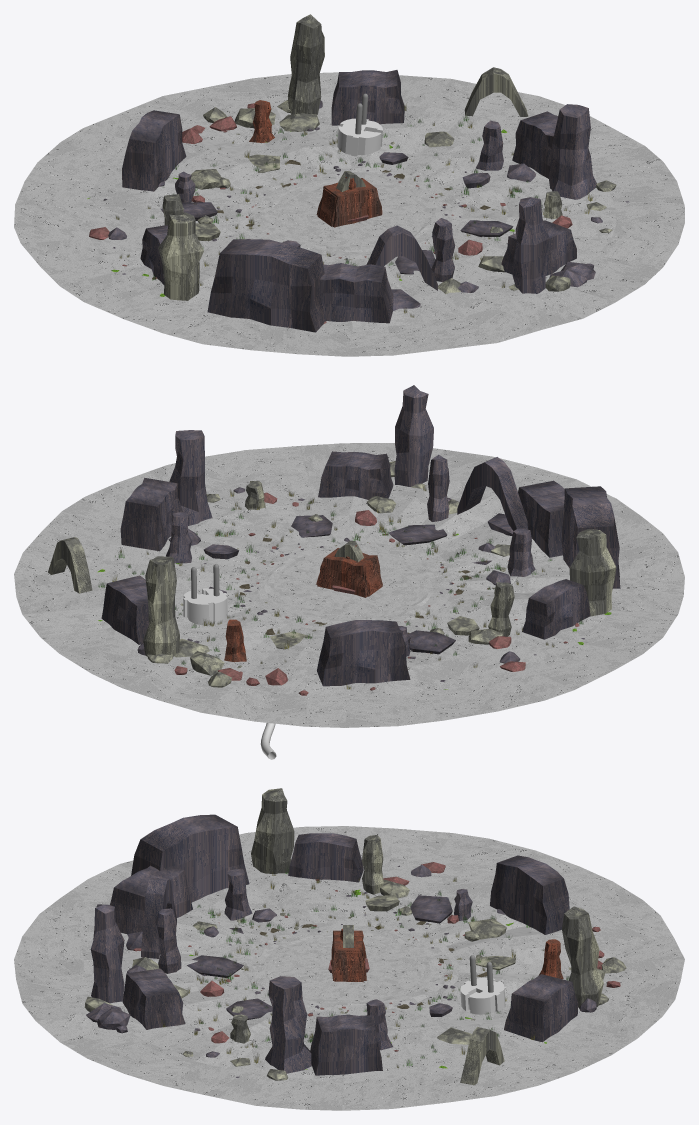
Rendered from rock.glb.
The picture shows the model from 3 angles, top to bottom: view 1: azimuth 30°, elevation 25°; view 2: azimuth 150°, elevation 25°; view 3: azimuth 270°, elevation 25°; orthographic projection.
Parts seen in each view (by area): view 1: ArenaGround, inst_herocliff_0053, inst_cliff_0005, inst_cliff_0003, inst_heropillar_0046, inst_cliff_0002, inst_heropillar_0048, inst_heropillar_0047, inst_heropillar_0049, inst_cliff_0001, inst_arch_0002, power plug (+9 smaller); view 2: ArenaGround, inst_cliff_0003, inst_cliff_0001, inst_heropillar_0049, inst_herocliff_0053, inst_cliff_0006, inst_heropillar_0047, inst_cliff_0004, inst_heropillar_0048, inst_heropillar_0046, inst_cliff_0005, inst_arch_0002 (+13 smaller); view 3: ArenaGround, inst_herocliff_0053, inst_cliff_0003, inst_cliff_0001, inst_cliff_0002, inst_heropillar_0046, inst_cliff_0004, inst_cliff_0006, inst_heropillar_0048, inst_cliff_0005, inst_heropillar_0047, inst_heropillar_0049 (+15 smaller).
Part boxes in pixels (left/top/right/bottom): ArenaGround: left=14, top=72, right=684, bottom=356; inst_herocliff_0053: left=207, top=239, right=325, bottom=332; inst_cliff_0005: left=319, top=263, right=393, bottom=323; inst_cliff_0003: left=122, top=110, right=186, bottom=191; inst_heropillar_0046: left=548, top=104, right=596, bottom=199; inst_cliff_0002: left=331, top=70, right=404, bottom=125; inst_heropillar_0048: left=158, top=212, right=203, bottom=300; inst_heropillar_0047: left=287, top=14, right=324, bottom=114; inst_heropillar_0049: left=512, top=197, right=549, bottom=293; inst_cliff_0001: left=512, top=111, right=558, bottom=178; inst_arch_0002: left=366, top=225, right=437, bottom=290; power plug: left=337, top=93, right=382, bottom=156; ArenaGround: left=14, top=443, right=684, bottom=727; inst_cliff_0003: left=317, top=620, right=410, bottom=686; inst_cliff_0001: left=120, top=477, right=182, bottom=551; inst_heropillar_0049: left=394, top=385, right=433, bottom=486; inst_herocliff_0053: left=561, top=486, right=620, bottom=588; inst_cliff_0006: left=318, top=451, right=393, bottom=499; inst_heropillar_0047: left=143, top=556, right=179, bottom=656; inst_cliff_0004: left=522, top=579, right=590, bottom=639; inst_heropillar_0048: left=569, top=529, right=616, bottom=616; inst_heropillar_0046: left=169, top=430, right=212, bottom=525; inst_cliff_0005: left=518, top=480, right=564, bottom=557; inst_arch_0002: left=457, top=457, right=527, bottom=530; ArenaGround: left=14, top=826, right=684, bottom=1110; inst_herocliff_0053: left=131, top=814, right=249, bottom=902; inst_cliff_0003: left=490, top=855, right=569, bottom=934; inst_cliff_0001: left=310, top=1014, right=382, bottom=1075; inst_cliff_0002: left=504, top=974, right=578, bottom=1042; inst_heropillar_0046: left=265, top=976, right=311, bottom=1073; inst_cliff_0004: left=288, top=833, right=363, bottom=882; inst_cliff_0006: left=122, top=968, right=185, bottom=1029; inst_heropillar_0048: left=251, top=788, right=294, bottom=874; inst_cliff_0005: left=110, top=865, right=192, bottom=934; inst_heropillar_0047: left=562, top=906, right=603, bottom=1007; inst_heropillar_0049: left=90, top=904, right=124, bottom=1003.
Bounding box in the file's own units: 48.15 × 11.53 × 48.05.
21 materials, 14 textured.
